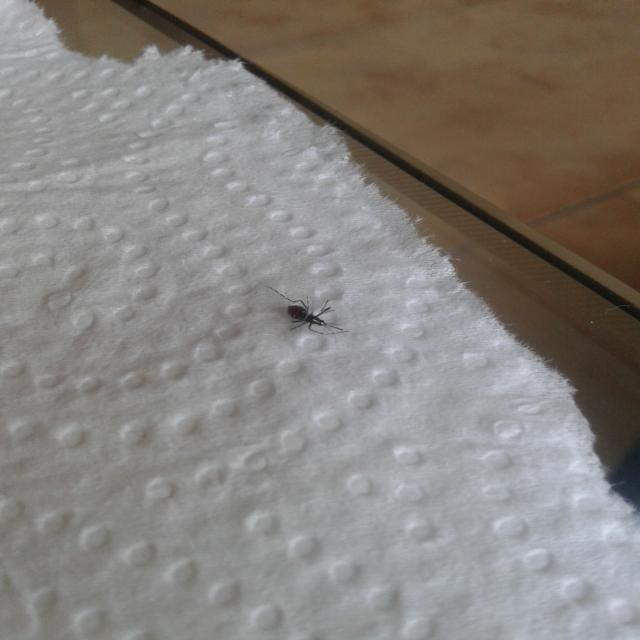albopictus: (260, 282, 350, 341)
